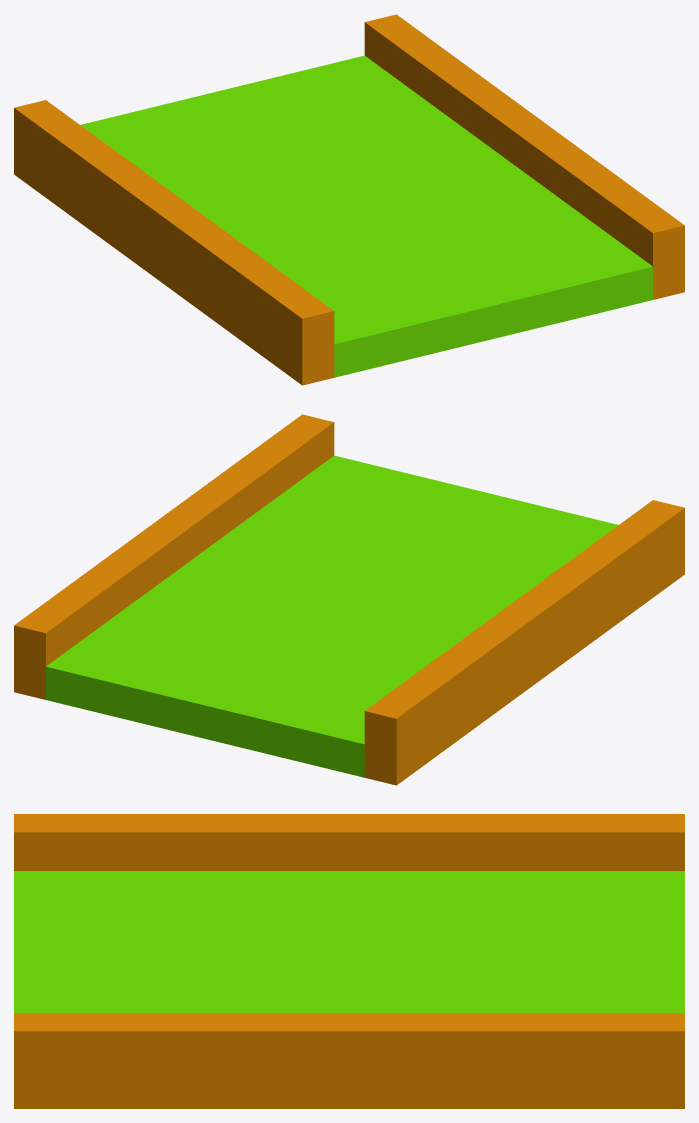
Rendered from jalan lurus.fbx.
3 views of the same model, one above another, from view 1: azimuth 30°, elevation 25°; view 2: azimuth 150°, elevation 25°; view 3: azimuth 270°, elevation 25° (orthographic). The views are drawn at different scales.
Visible parts, largest first — view 1: Cube.002; view 2: Cube.002; view 3: Cube.002.
Boxes of the visible parts, x1=… form: Cube.002: x1=14, y1=14, x2=684, y2=385; Cube.002: x1=14, y1=414, x2=684, y2=785; Cube.002: x1=14, y1=814, x2=684, y2=1108.
Size of the model in its own units: 240 by 40 by 313.
